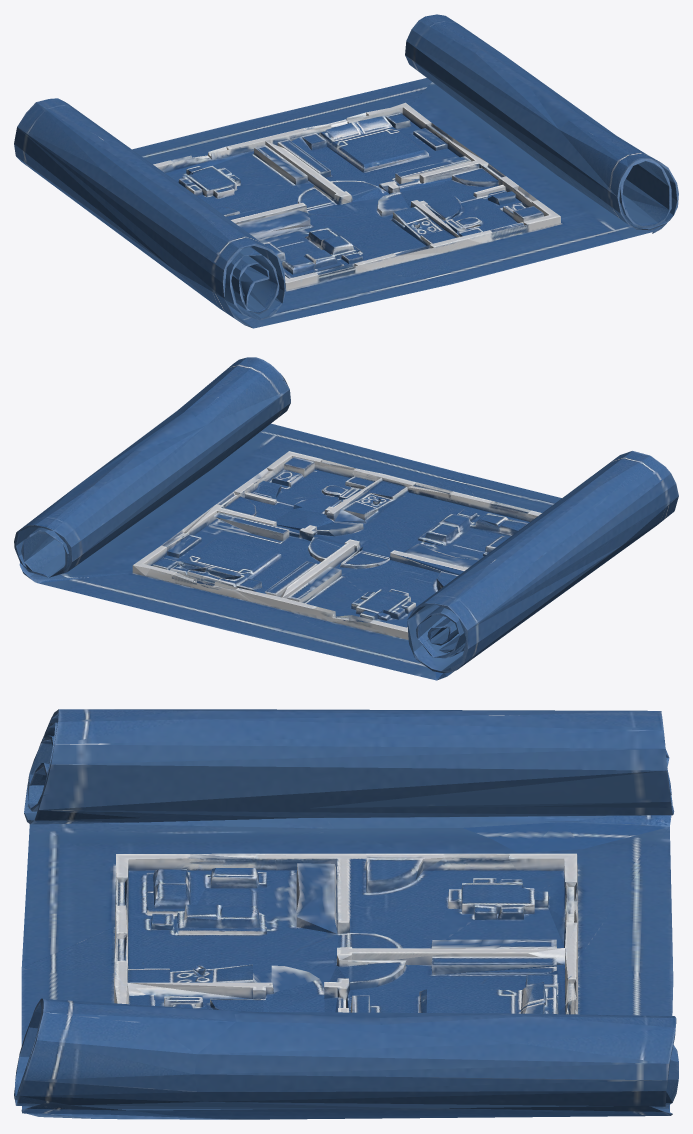
The model's file is blueprint.glb.
The picture shows the model from 3 angles, top to bottom: view 1: azimuth 30°, elevation 25°; view 2: azimuth 150°, elevation 25°; view 3: azimuth 270°, elevation 25°; orthographic projection. The views are drawn at different scales.
Parts seen in each view (by area): view 1: output_unwrapped; view 2: output_unwrapped; view 3: output_unwrapped.
Boxes of the visible parts, left/top/right/bottom form: output_unwrapped: left=14, top=14, right=678, bottom=328; output_unwrapped: left=14, top=357, right=678, bottom=680; output_unwrapped: left=14, top=709, right=678, bottom=1119.
Size of the model in its own units: 1.9 by 0.3097 by 1.63.
Materials: 1 (1 with a texture image).
